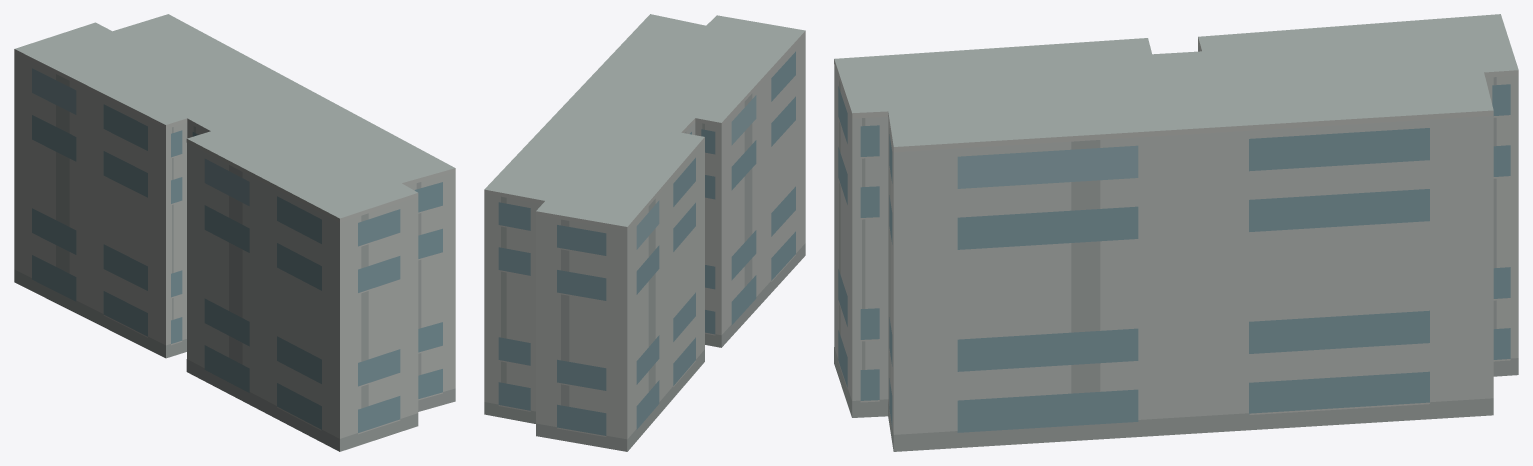
The model's file is survey-upis-32575358.glb.
3 renders of one model, left to right at view 1: azimuth 30°, elevation 25°; view 2: azimuth 150°, elevation 25°; view 3: azimuth 270°, elevation 25°, orthographic. The views are drawn at different scales.
Visible parts, largest first — view 1: survey-upis-32575358.tmp; view 2: survey-upis-32575358.tmp; view 3: survey-upis-32575358.tmp.
Part boxes in pixels (x1,y1,x2,y2): survey-upis-32575358.tmp: (14, 14, 455, 451); survey-upis-32575358.tmp: (484, 14, 805, 451); survey-upis-32575358.tmp: (834, 14, 1518, 451).
Size of the model in its own units: 12.83 by 13.7 by 27.9.
